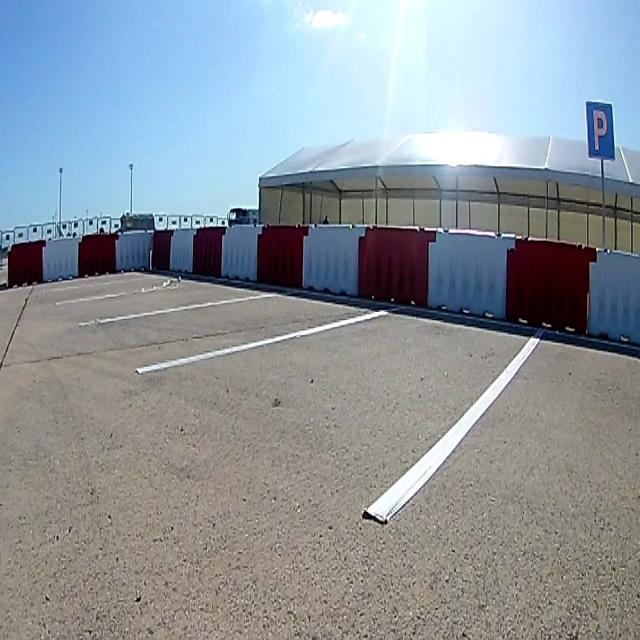park: (585, 100, 615, 162)
